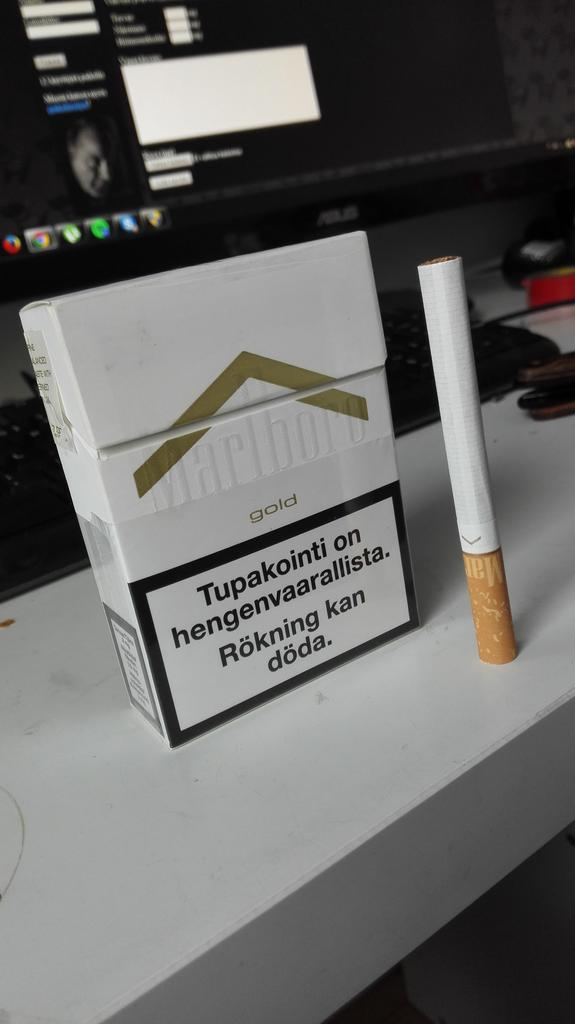marlboro_gold: (122, 270, 374, 667)
